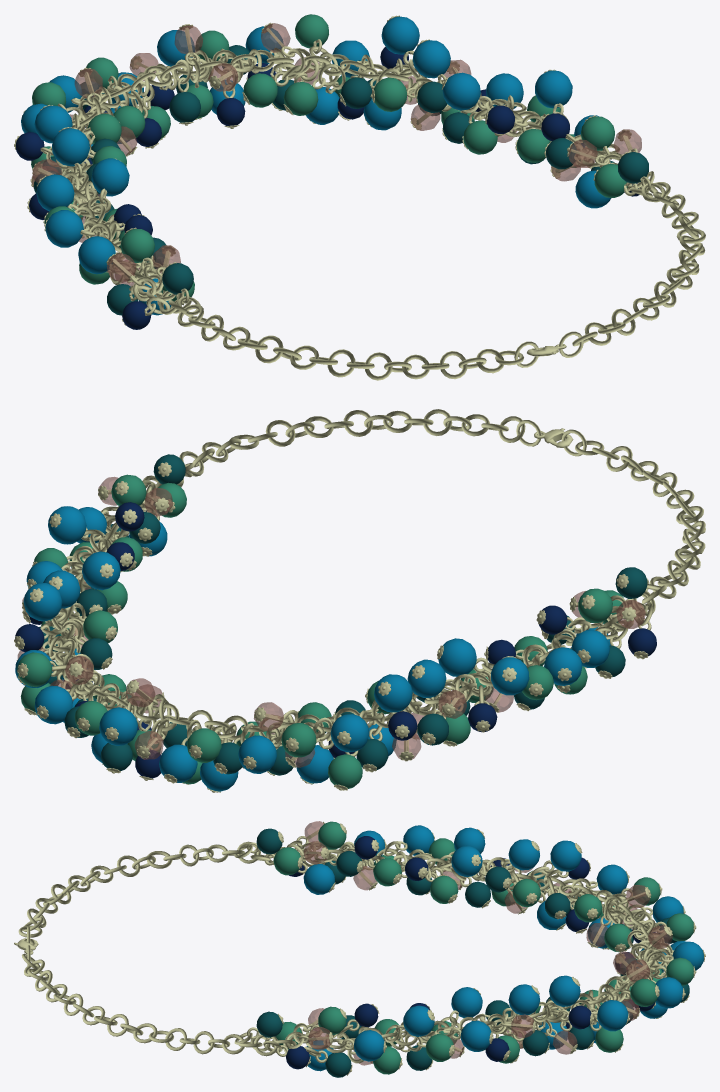
The model's file is 11786_beadsneck_V2_l1.obj.
The picture shows the model from 3 angles, top to bottom: view 1: azimuth 30°, elevation 25°; view 2: azimuth 150°, elevation 25°; view 3: azimuth 270°, elevation 25°; orthographic projection. The views are drawn at different scales.
Parts seen in each view (by area): view 1: 11768_beadsneck_chain, 11768_beadsneck_beads_214, 11768_beadsneck_beads_226, 11768_beadsneck_beads_385, 11768_beadsneck_beads_436, 11768_beadsneck_beads_277, 11768_beadsneck_beads_265, 11768_beadsneck_beads_448, 11768_beadsneck_beads_418, 11768_beadsneck_beads_466, 11768_beadsneck_beads_397, 11768_beadsneck_beads_193 (+38 smaller); view 2: 11768_beadsneck_chain, 11768_beadsneck_beads_448, 11768_beadsneck_beads_265, 11768_beadsneck_beads_397, 11768_beadsneck_beads_496, 11768_beadsneck_beads_166, 11768_beadsneck_beads_226, 11768_beadsneck_beads_157, 11768_beadsneck_beads_374, 11768_beadsneck_beads_418, 11768_beadsneck_beads_325, 11768_beadsneck_beads_385 (+26 smaller); view 3: 11768_beadsneck_chain, 11768_beadsneck_beads_202, 11768_beadsneck_beads_295, 11768_beadsneck_beads_247, 11768_beadsneck_beads_277, 11768_beadsneck_beads_214, 11768_beadsneck_beads_226, 11768_beadsneck_beads_397, 11768_beadsneck_beads_481, 11768_beadsneck_beads_385, 11768_beadsneck_beads_265, 11768_beadsneck_beads_374 (+43 smaller).
Boxes of the visible parts, bbox=[...] form: 11768_beadsneck_chain: bbox=[62, 48, 705, 380]; 11768_beadsneck_beads_214: bbox=[412, 40, 450, 78]; 11768_beadsneck_beads_226: bbox=[381, 16, 419, 54]; 11768_beadsneck_beads_385: bbox=[52, 128, 89, 166]; 11768_beadsneck_beads_436: bbox=[45, 210, 83, 247]; 11768_beadsneck_beads_277: bbox=[442, 72, 480, 110]; 11768_beadsneck_beads_265: bbox=[535, 70, 572, 108]; 11768_beadsneck_beads_448: bbox=[91, 158, 129, 196]; 11768_beadsneck_beads_418: bbox=[36, 174, 74, 211]; 11768_beadsneck_beads_466: bbox=[78, 236, 115, 274]; 11768_beadsneck_beads_397: bbox=[34, 105, 72, 143]; 11768_beadsneck_beads_193: bbox=[581, 116, 614, 150]; 11768_beadsneck_chain: bbox=[48, 409, 705, 742]; 11768_beadsneck_beads_448: bbox=[438, 638, 476, 676]; 11768_beadsneck_beads_265: bbox=[48, 506, 86, 544]; 11768_beadsneck_beads_397: bbox=[374, 674, 412, 712]; 11768_beadsneck_beads_496: bbox=[238, 735, 276, 773]; 11768_beadsneck_beads_166: bbox=[159, 744, 197, 782]; 11768_beadsneck_beads_226: bbox=[23, 583, 62, 621]; 11768_beadsneck_beads_157: bbox=[99, 707, 137, 745]; 11768_beadsneck_beads_374: bbox=[330, 714, 369, 752]; 11768_beadsneck_beads_418: bbox=[491, 657, 529, 695]; 11768_beadsneck_beads_325: bbox=[34, 685, 72, 724]; 11768_beadsneck_beads_385: bbox=[407, 659, 446, 697]; 11768_beadsneck_chain: bbox=[18, 841, 662, 1056]; 11768_beadsneck_beads_202: bbox=[597, 1000, 628, 1031]; 11768_beadsneck_beads_295: bbox=[354, 1030, 384, 1061]; 11768_beadsneck_beads_247: bbox=[460, 1020, 491, 1051]; 11768_beadsneck_beads_277: bbox=[451, 987, 482, 1017]; 11768_beadsneck_beads_214: bbox=[508, 984, 539, 1015]; 11768_beadsneck_beads_226: bbox=[549, 975, 580, 1006]; 11768_beadsneck_beads_397: bbox=[550, 840, 581, 871]; 11768_beadsneck_beads_481: bbox=[303, 864, 334, 894]; 11768_beadsneck_beads_385: bbox=[508, 839, 539, 870]; 11768_beadsneck_beads_265: bbox=[403, 1005, 434, 1036]; 11768_beadsneck_beads_374: bbox=[596, 864, 627, 894].
Bounding box in the file's own units: 23.97 × 4.8 × 32.67.
